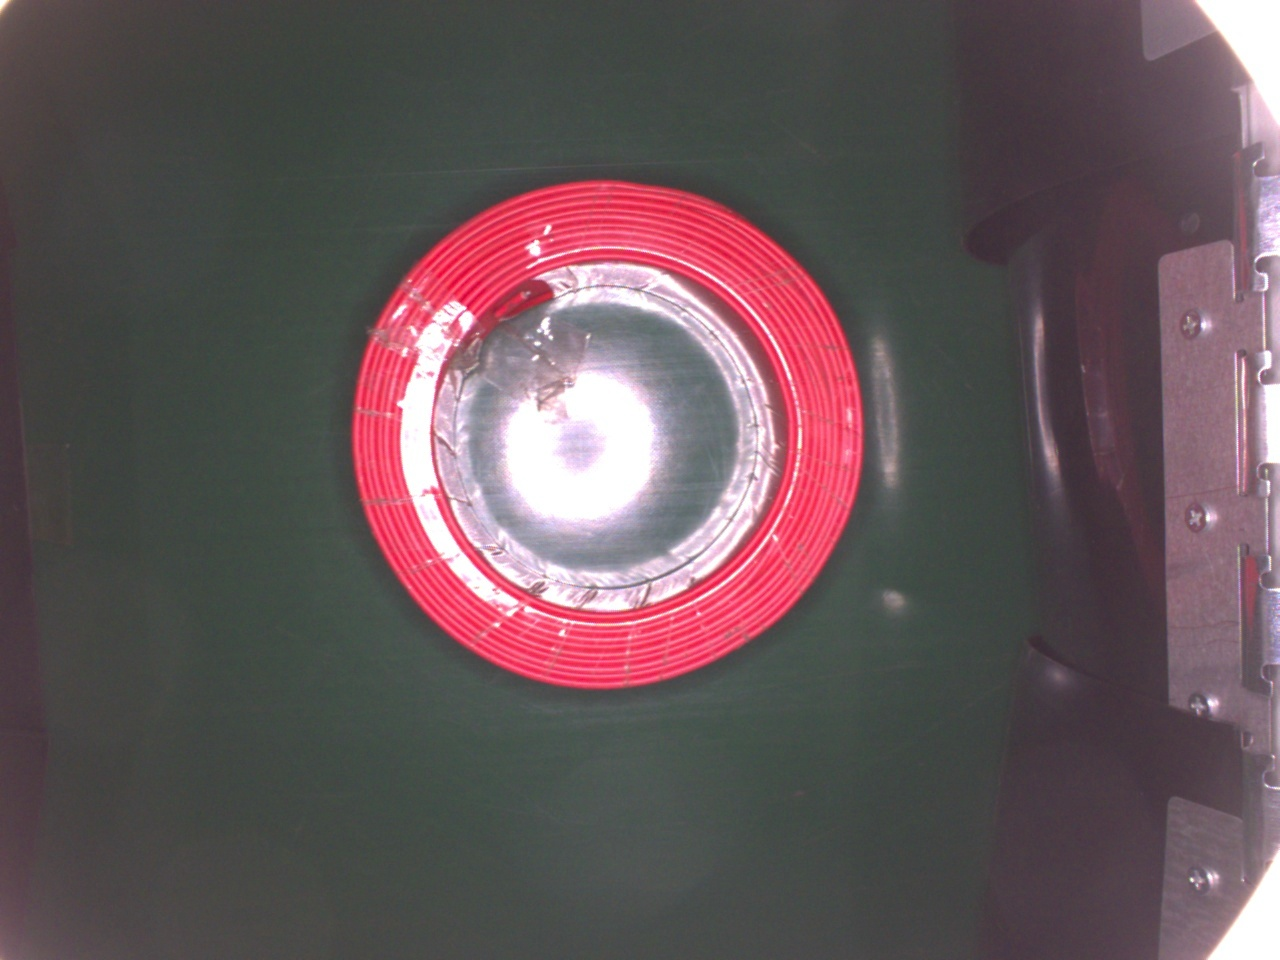red: (351, 175, 868, 693)
